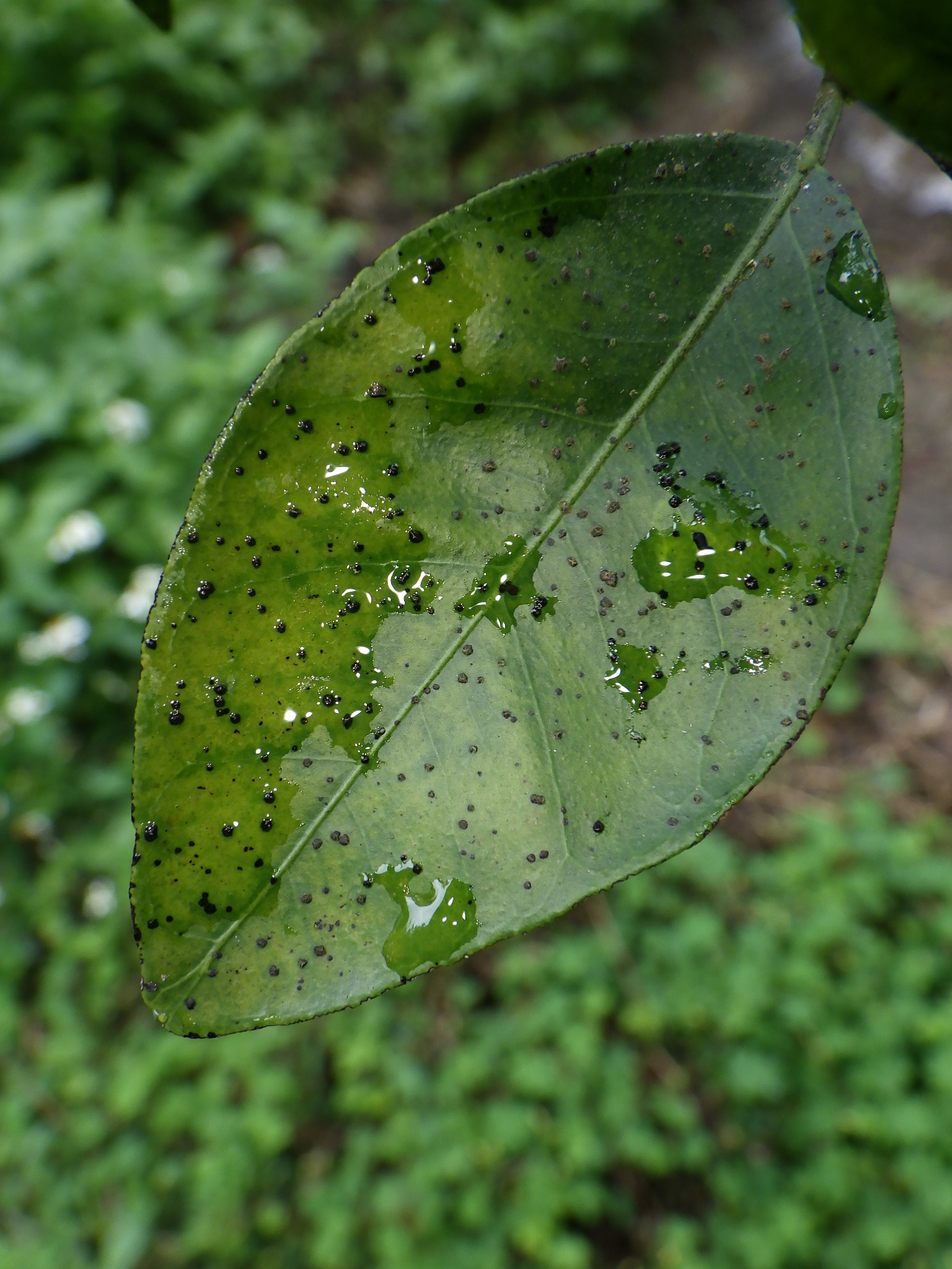Oily_Spot: (130, 134, 902, 1037)
